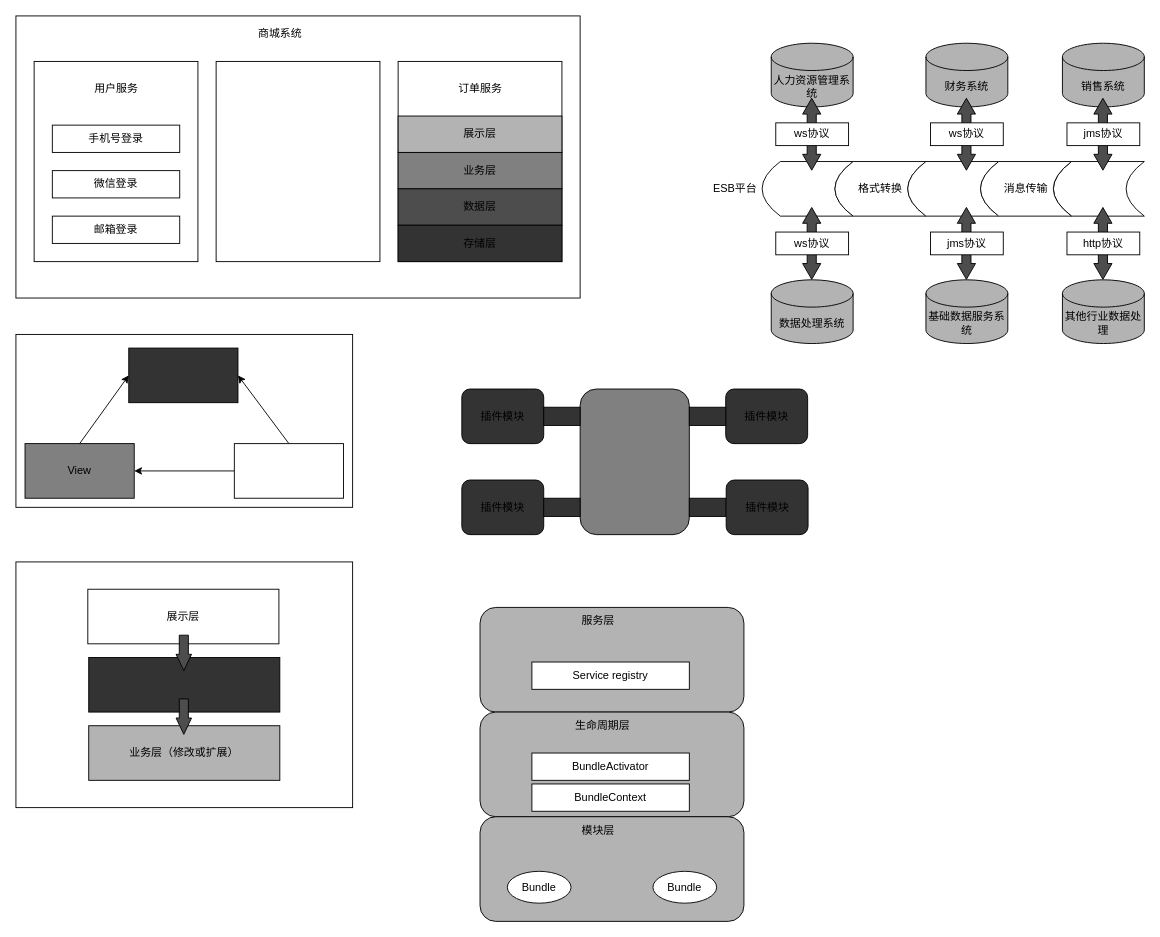
The diagram is 1160 pixels wide and 937 high, and some of its shapes have lost their labels. Here are the shapes that lost their labels. From the top down, the box of each, then its label:
(215, 61, 380, 262): 商品服务
(761, 161, 853, 216): 消息路由
(907, 161, 999, 216): 记录日志
(1052, 161, 1144, 216): 异常处理
(128, 347, 238, 403): Model
(233, 443, 344, 498): Controller
(579, 388, 689, 535): 核心系统
(88, 657, 280, 712): 接口层（稳定）
